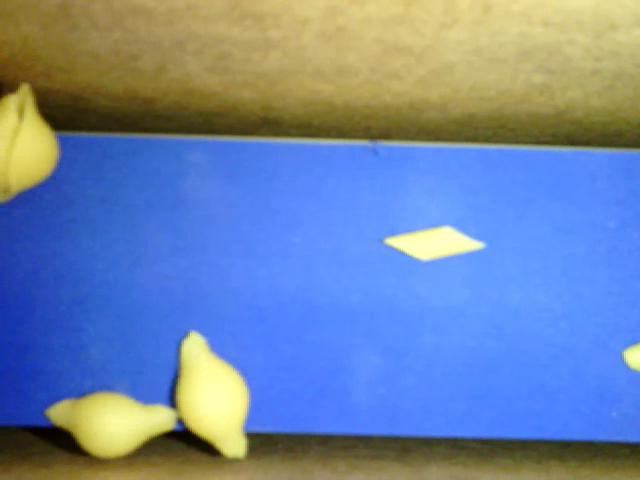penne: (381, 224, 486, 262)
shell: (174, 330, 247, 458), (44, 392, 179, 460), (1, 79, 62, 205)
